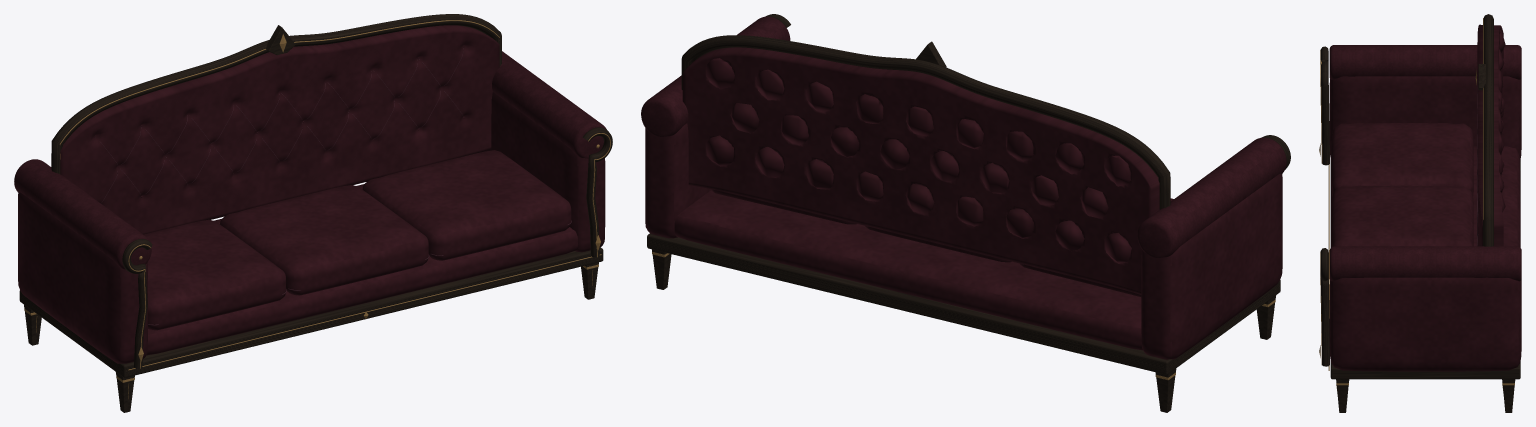
Rendered from gotico_sofa_3_lugares.glb.
3 views of the same model, side by side, from view 1: azimuth 30°, elevation 25°; view 2: azimuth 150°, elevation 25°; view 3: azimuth 270°, elevation 25° (orthographic). The views are drawn at different scales.
Parts seen in each view (by area): view 1: sofa_3_lugares; view 2: sofa_3_lugares; view 3: sofa_3_lugares.
Part boxes in pixels (x1,y1,x2,y2): sofa_3_lugares: [14, 14, 612, 412]; sofa_3_lugares: [641, 14, 1290, 412]; sofa_3_lugares: [1319, 14, 1521, 412].
Size of the model in its own units: 2.17 by 1.14 by 0.854.
4 materials, 2 textured.
